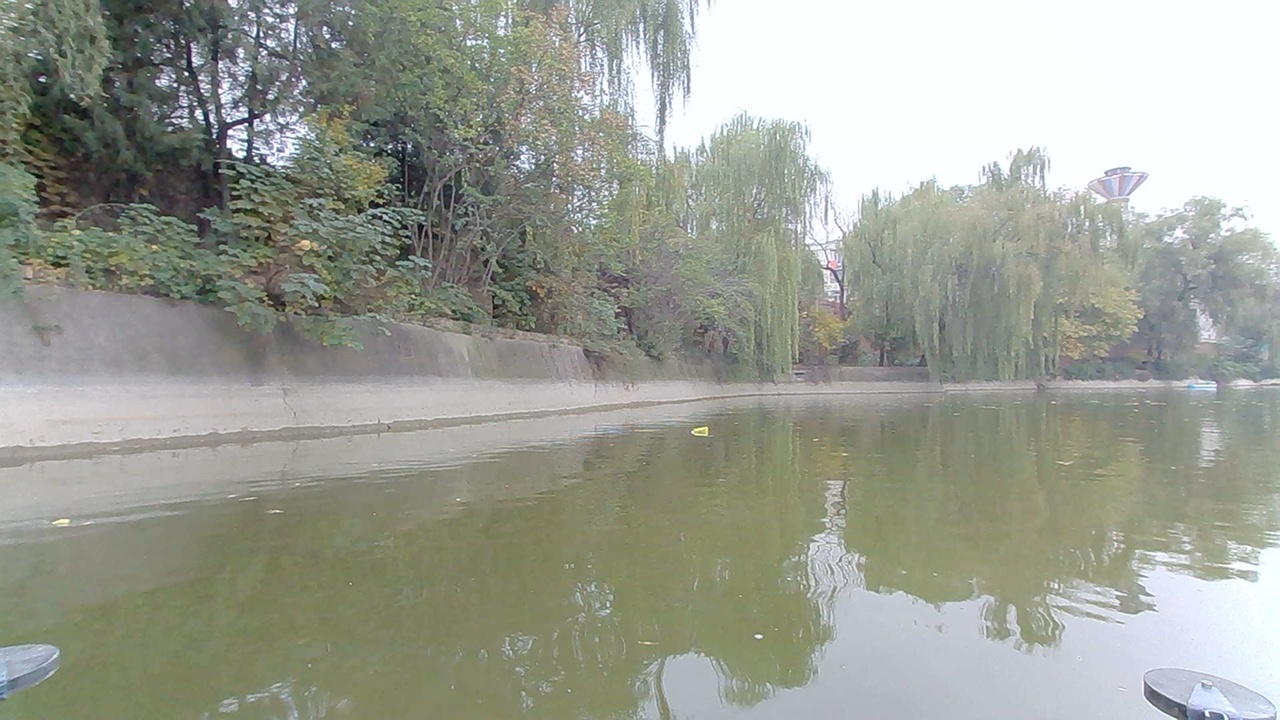bottle: (685, 420, 719, 443)
